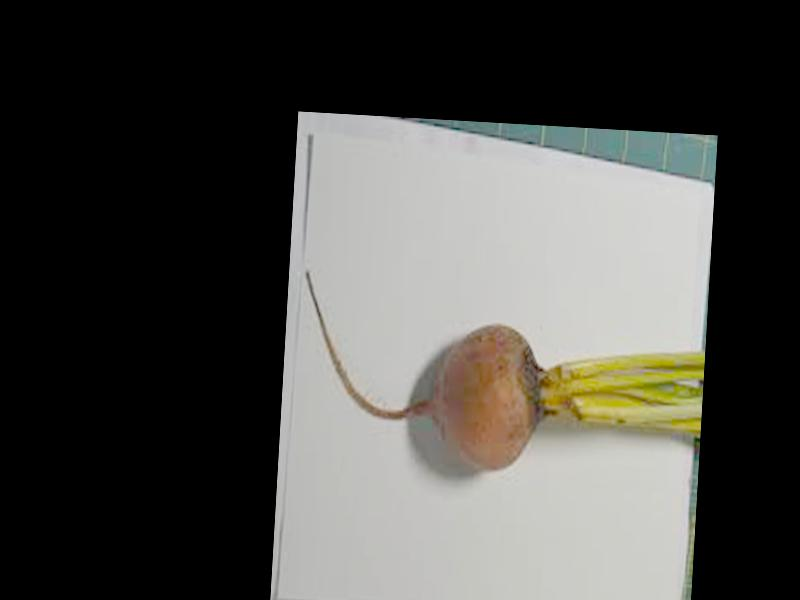Beet: (294, 272, 704, 482)
